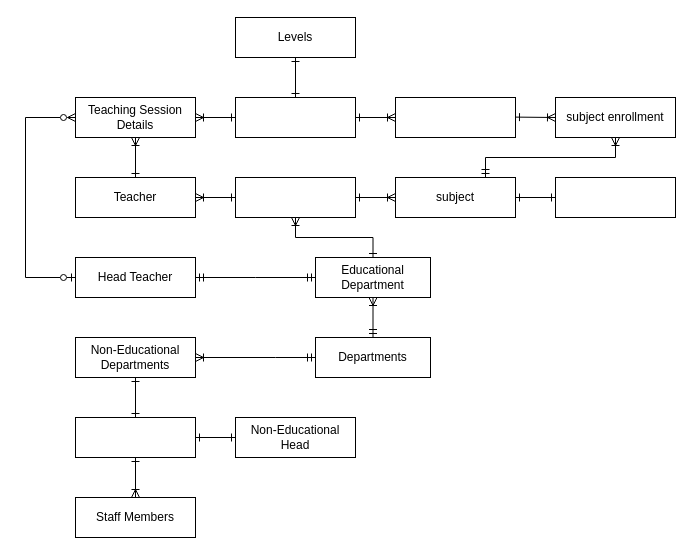
This 693x555 diagram has some shape labels left out. Here are the shapes that lost their labels. From the top down, the centre of each, then its label:
[295,117]: class
[455,117]: student
[295,197]: Teaching Team
[615,197]: Course Details
[135,437]: Non-Educational Team
